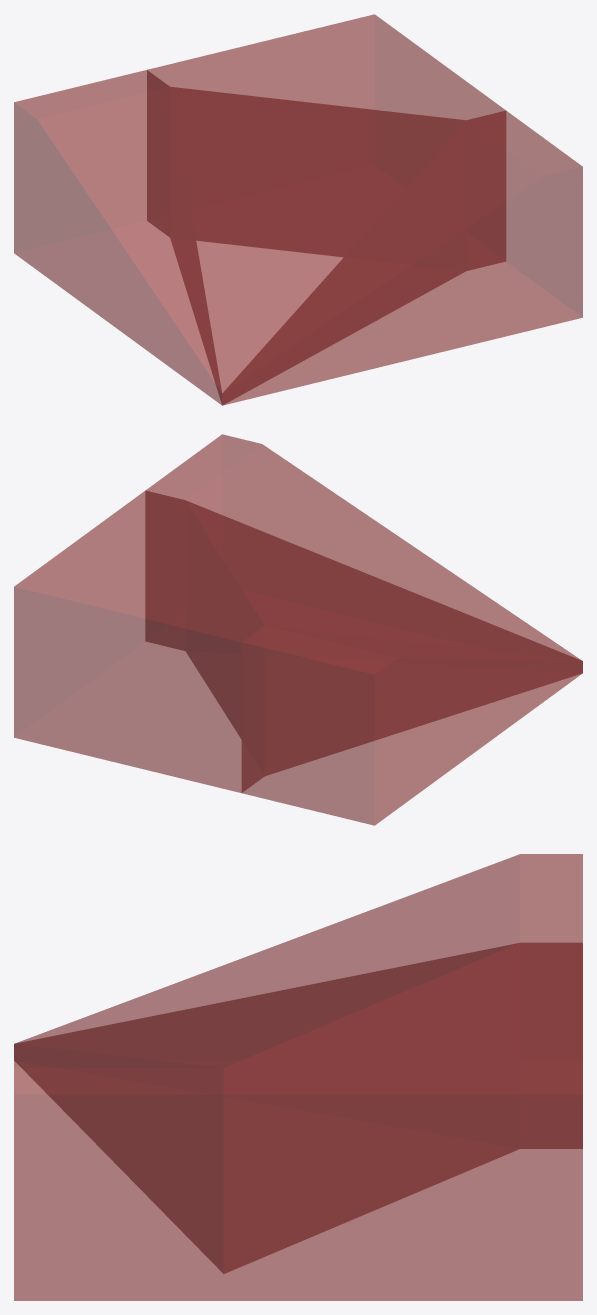
The model's file is SM_Bld_Steps_01_Corner_Inner_02_Collision.fbx.
3 views of the same model, one above another, from view 1: azimuth 30°, elevation 25°; view 2: azimuth 150°, elevation 25°; view 3: azimuth 270°, elevation 25° (orthographic). The views are drawn at different scales.
Visible parts, largest first — view 1: SM_Bld_Steps_01_Corner_Inner_02_Collision; view 2: SM_Bld_Steps_01_Corner_Inner_02_Collision; view 3: SM_Bld_Steps_01_Corner_Inner_02_Collision.
Part boxes in pixels (left/top/right/bottom): SM_Bld_Steps_01_Corner_Inner_02_Collision: left=14, top=14, right=582, bottom=405; SM_Bld_Steps_01_Corner_Inner_02_Collision: left=14, top=434, right=582, bottom=825; SM_Bld_Steps_01_Corner_Inner_02_Collision: left=14, top=854, right=582, bottom=1300.
Size of the model in its own units: 250 by 100 by 250.
